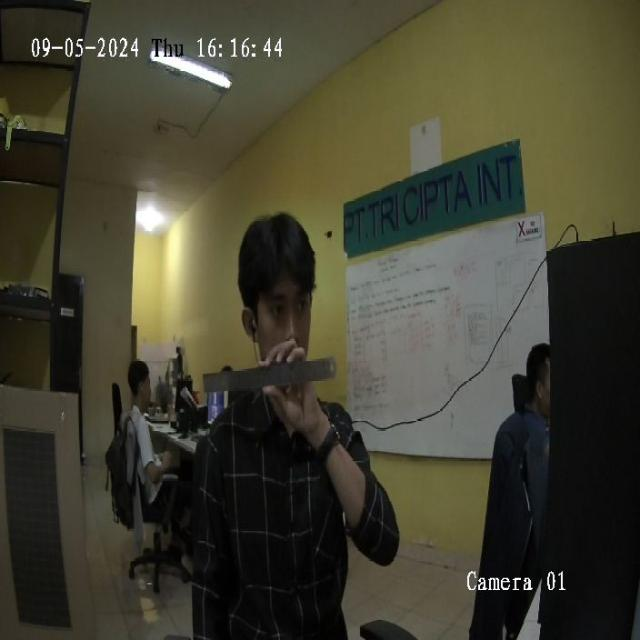Ruler: (204, 357, 335, 392)
